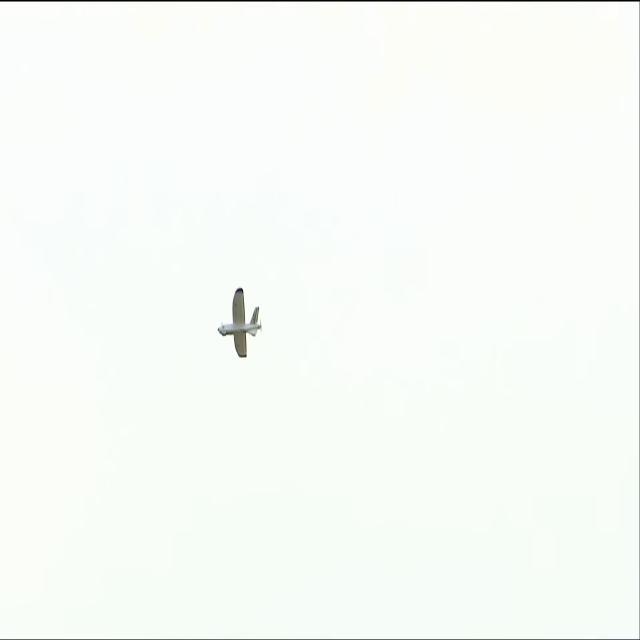iha: (217, 322, 263, 324)
